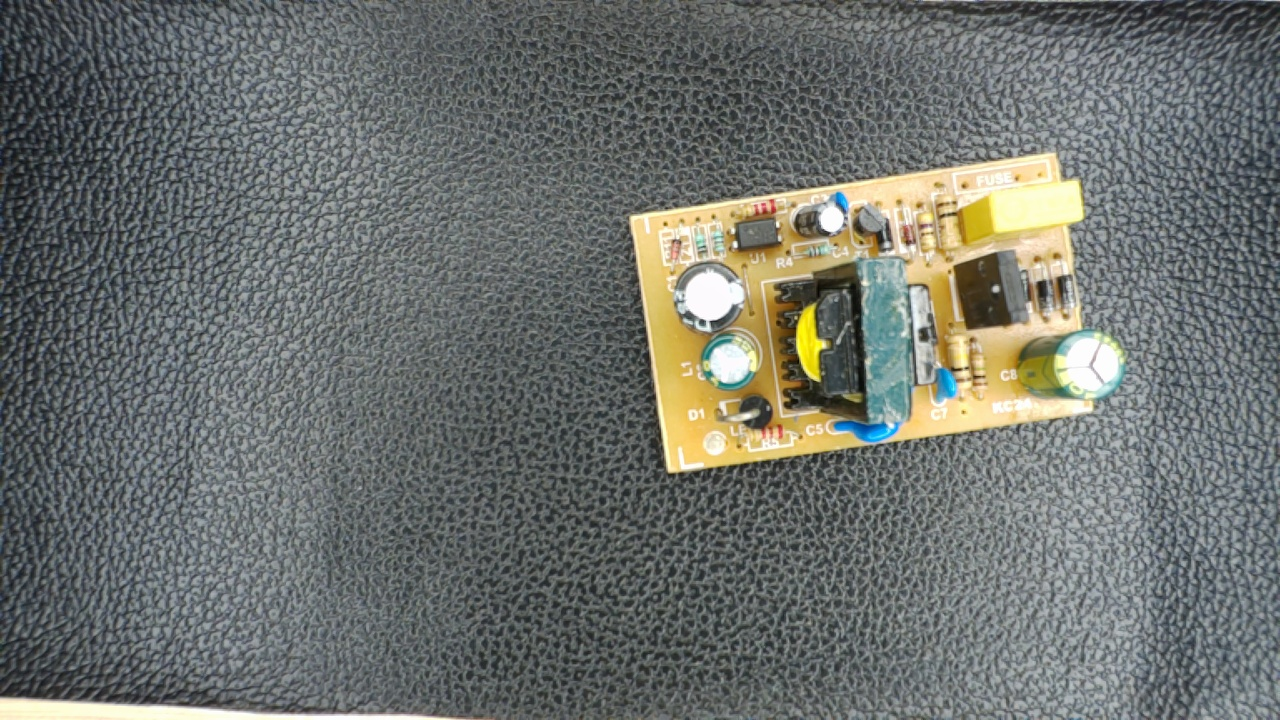hv_capacitor: (1017, 329, 1127, 401)
mov: (827, 420, 908, 444)
optocoupler: (725, 215, 786, 252)
